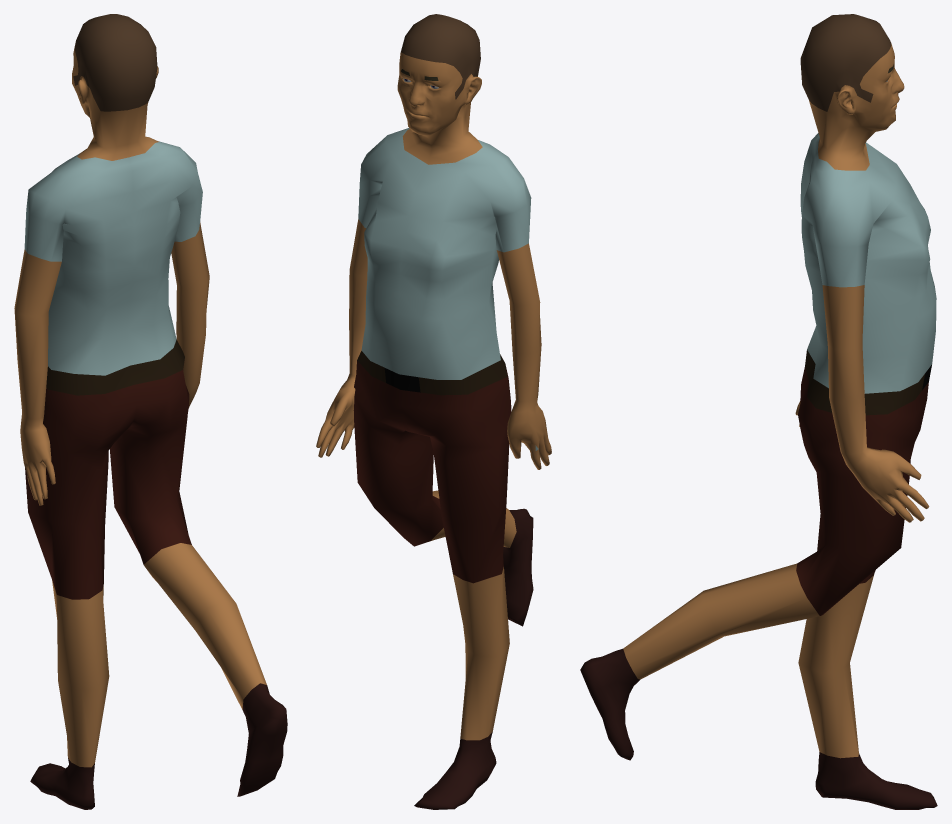
Rendered from person2_000003.obj.
The picture shows the model from 3 angles, left to right: view 1: azimuth 30°, elevation 25°; view 2: azimuth 150°, elevation 25°; view 3: azimuth 270°, elevation 25°; orthographic projection. The views are drawn at different scales.
Parts seen in each view (by area): view 1: Cube; view 2: Cube; view 3: Cube.
Boxes of the visible parts, left/top/right/bottom form: Cube: left=14, top=14, right=287, bottom=809; Cube: left=316, top=14, right=551, bottom=809; Cube: left=580, top=14, right=937, bottom=809.
Bounding box in the file's own units: 24.87 × 95.51 × 38.57.
